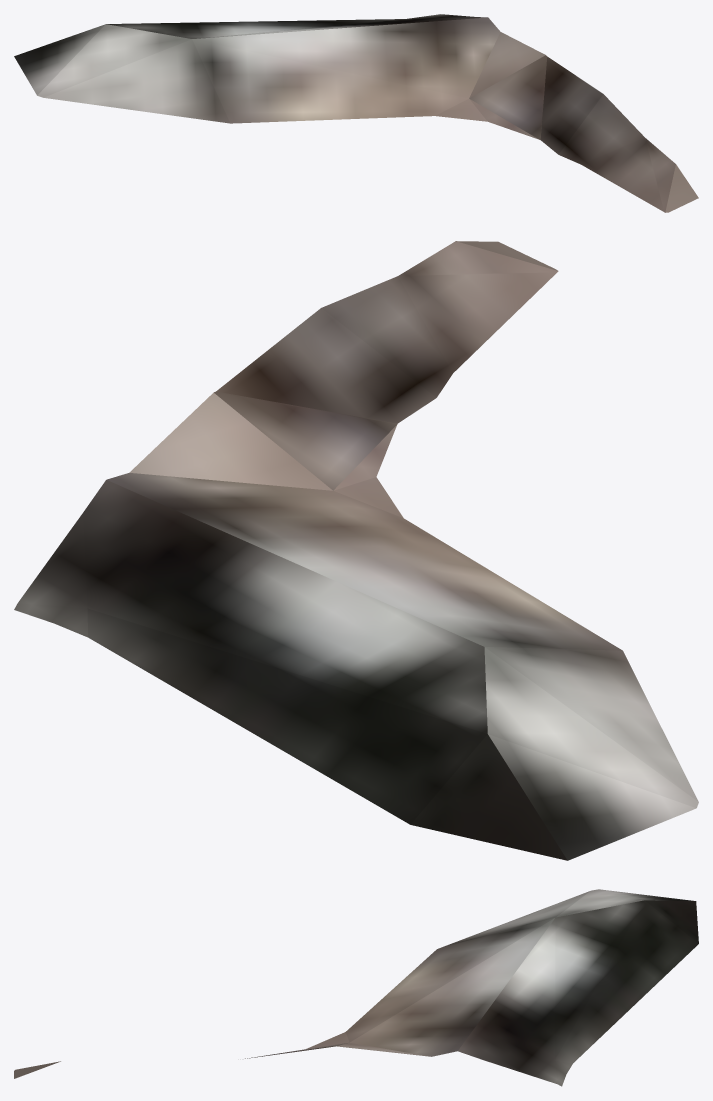
3 views of the same model, one above another, from view 1: azimuth 30°, elevation 25°; view 2: azimuth 150°, elevation 25°; view 3: azimuth 270°, elevation 25° (orthographic). The views are drawn at different scales.
Bounding box in the file's own units: 0.325 × 0.0335 × 0.4767.
1 material, 1 textured.
